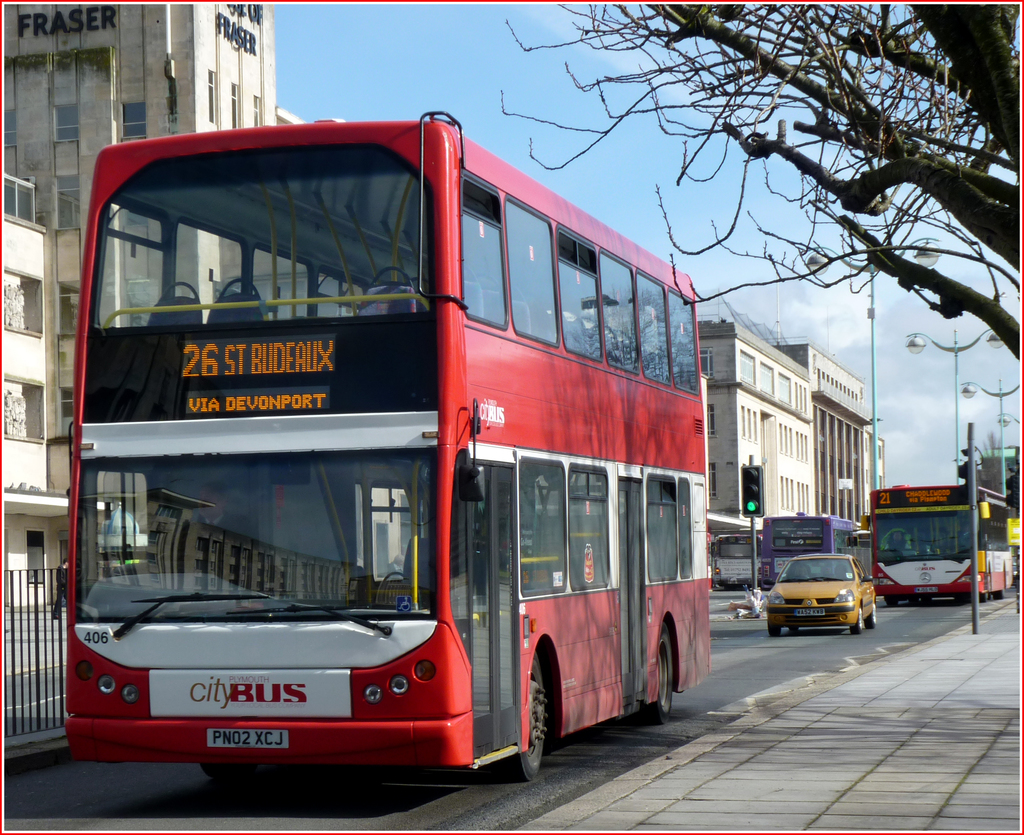Bus: (62, 107, 714, 784), (758, 514, 857, 589), (716, 530, 752, 586)
